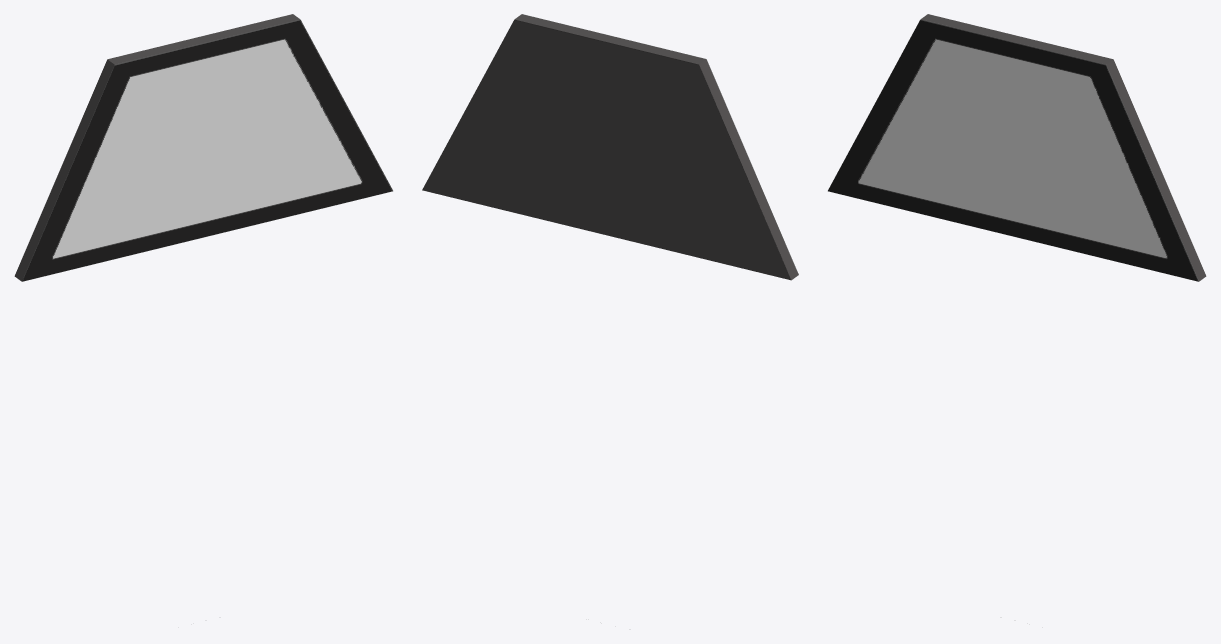
The model's file is signalne1.obj.
3 renders of one model, left to right at view 1: azimuth 30°, elevation 25°; view 2: azimuth 150°, elevation 25°; view 3: azimuth 330°, elevation 25°, orthographic.
Parts seen in each view (by area): view 1: NE1_NE01; view 2: NE1_NE01; view 3: NE1_NE01.
Boxes of the visible parts, left/top/right/bottom form: NE1_NE01: left=14, top=14, right=392, bottom=281; NE1_NE01: left=422, top=14, right=798, bottom=280; NE1_NE01: left=828, top=14, right=1206, bottom=281.
Size of the model in its own units: 0.8 by 1.2 by 0.0283.
1 material, 1 textured.
